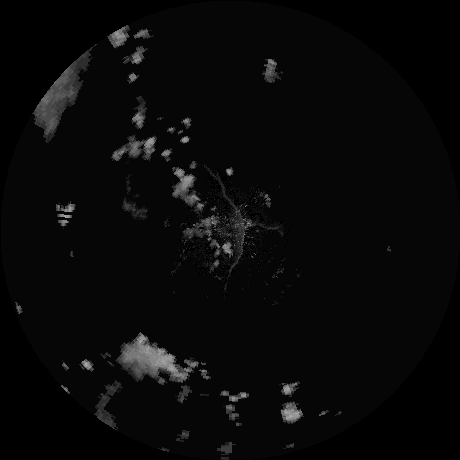frontgust: (208, 171, 239, 217), (231, 224, 246, 277)
